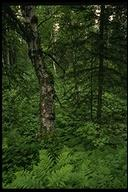tree: (6, 5, 125, 187)
